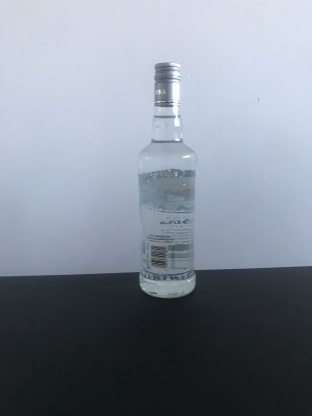nakretka: (152, 58, 182, 110)
